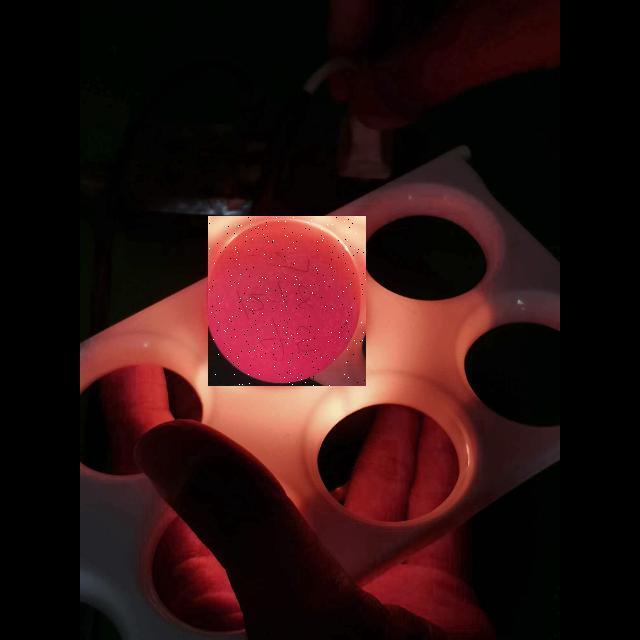Infertile: (208, 216, 366, 386)
